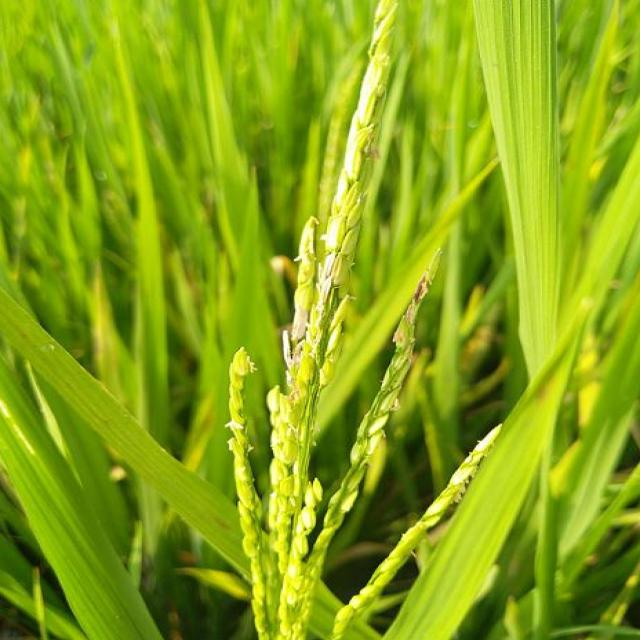Panicle Blight: (357, 249, 441, 440), (317, 215, 361, 364), (281, 307, 308, 369)
